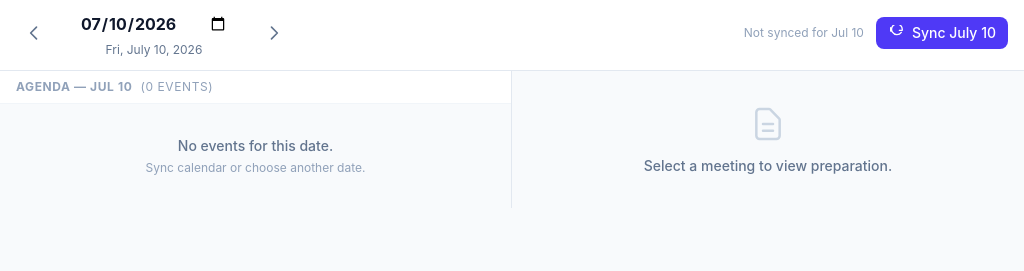
MeetingsView › sync failure shows honest error state
Click the button "Sync July 10". click: click(942, 33)
box: [876,17,1008,49]
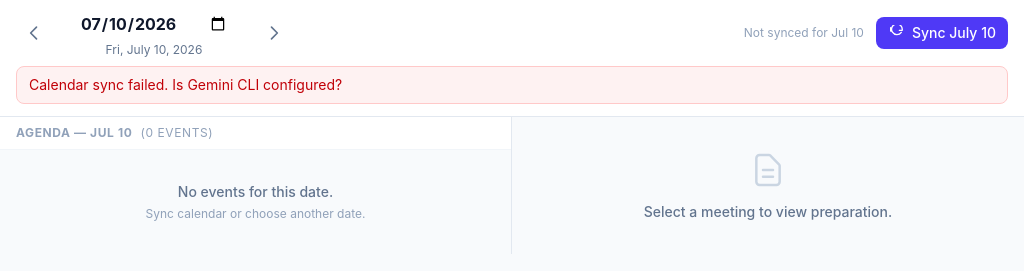
Result: the text "Calendar sync failed. Is Gemini CLI configured?" is shown at [16,66,1008,104]
